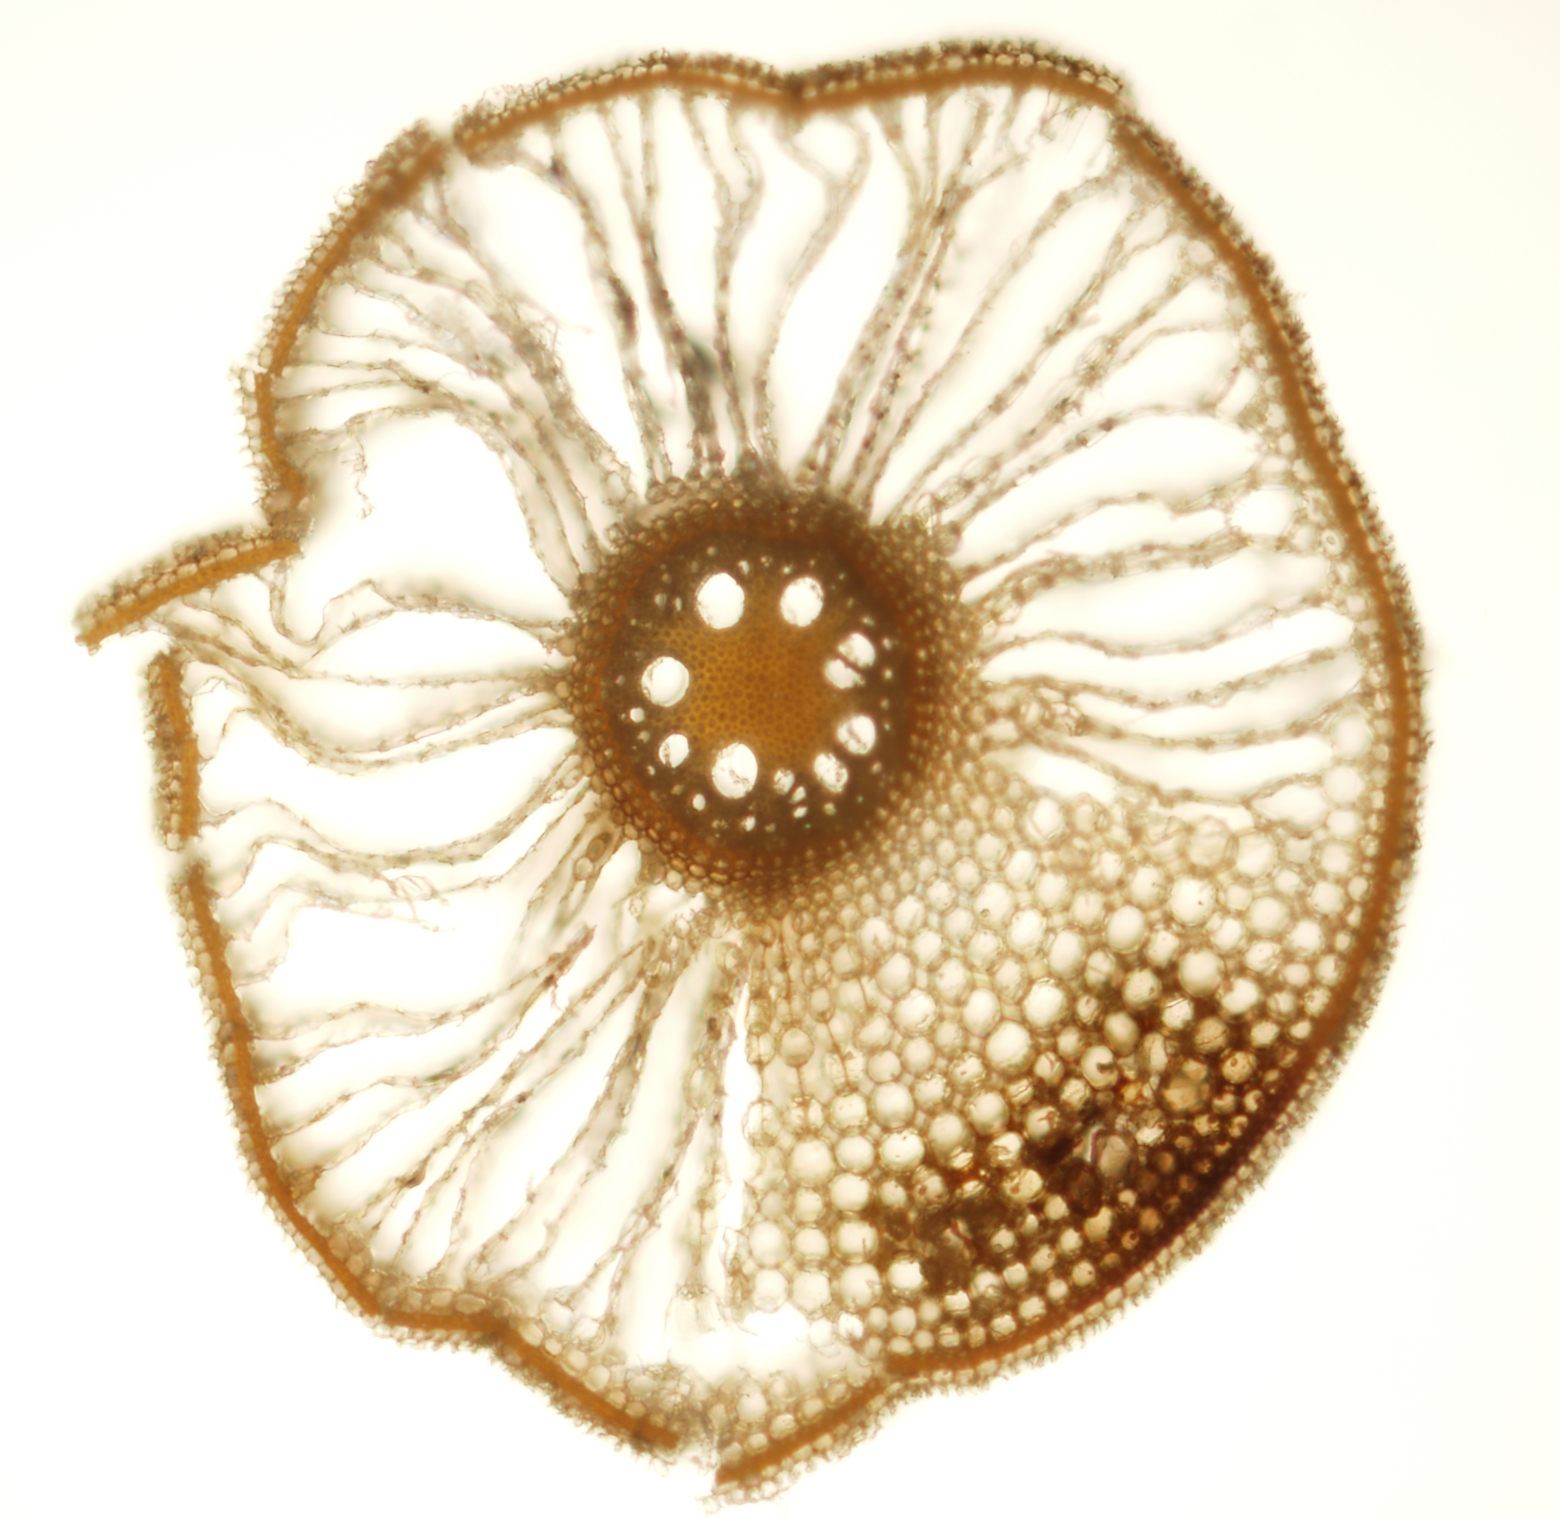lm: (825, 632, 876, 689), (710, 742, 758, 799), (696, 572, 744, 629), (641, 656, 689, 707), (780, 577, 825, 625), (836, 714, 876, 755), (813, 753, 848, 792), (659, 733, 689, 767)
